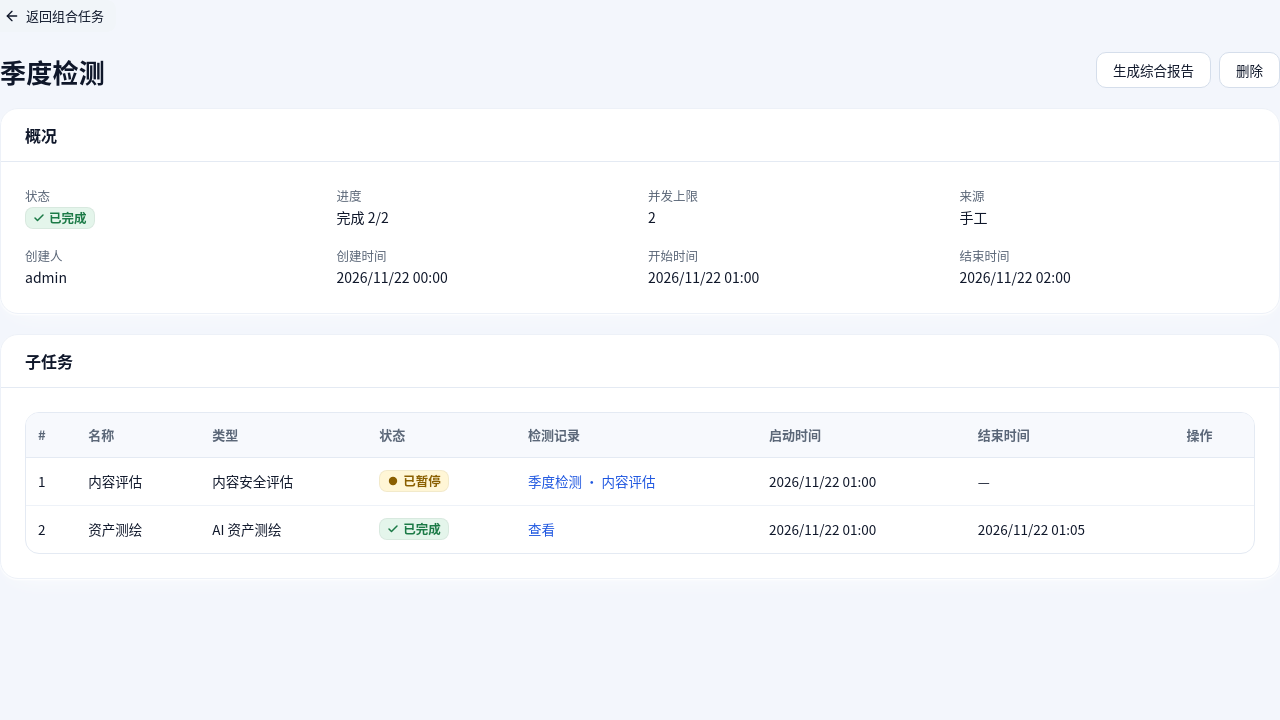
Test: DetectJobDetailPage › 任务结束后生成综合报告：带标题和所选模板，生成后进报告详情
Step 1. Click the button "生成综合报告" → click(1154, 70), box [1096,52,1211,88]
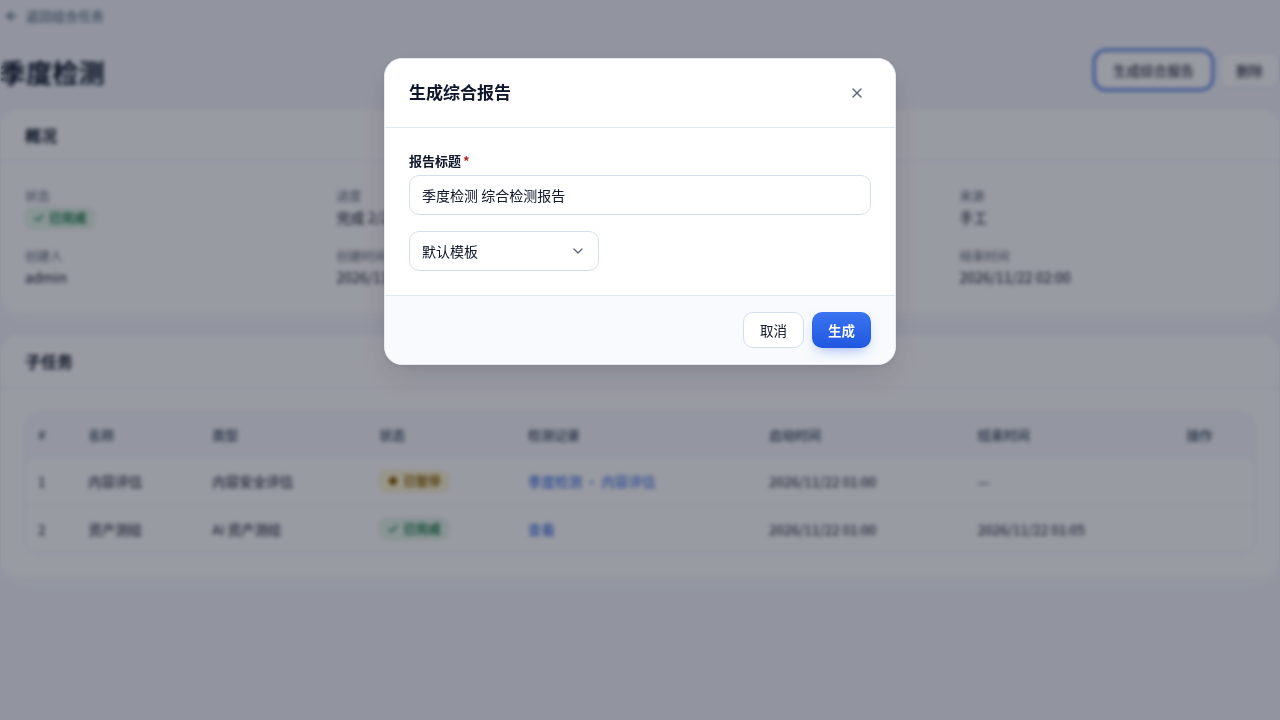
Now the field labelled "报告标题*" holds "季度检测 综合检测报告", box [409,176,871,216]
Step 2. Select "客户交付模板（默认）" in the dropdown named "报告模板" → (504, 252), box [409,232,599,272]
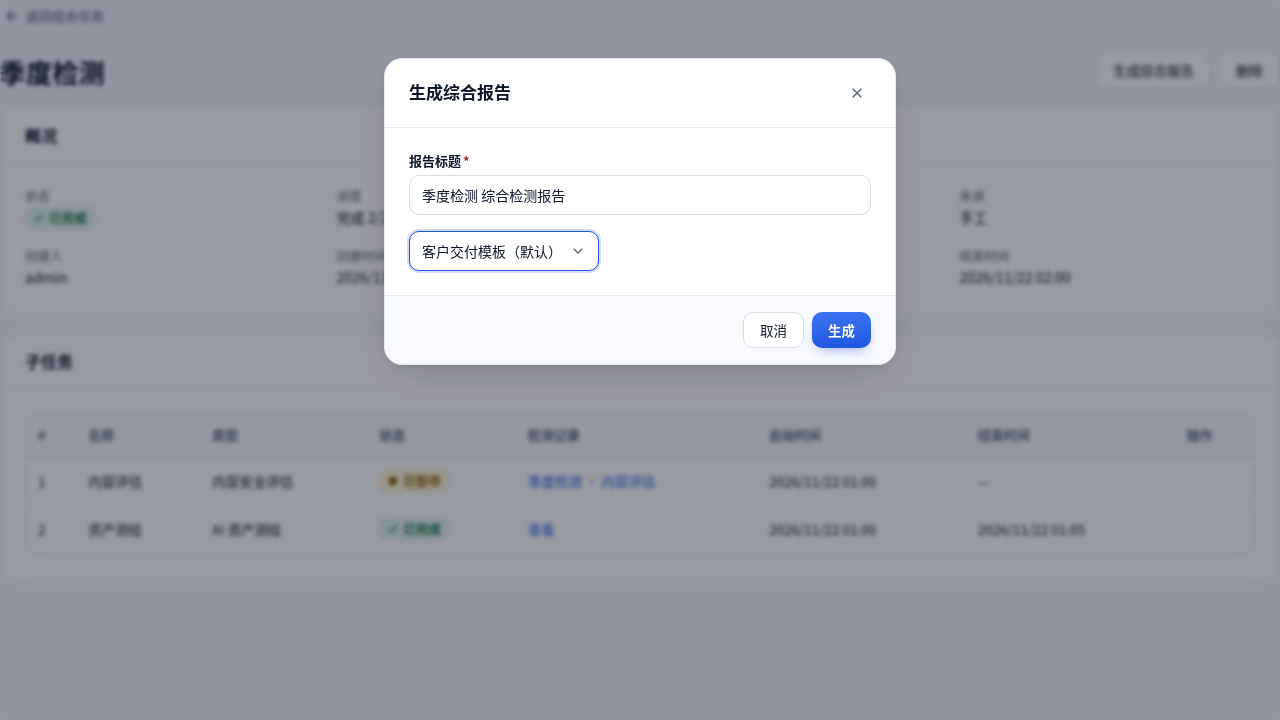
Step 3. Click the button "生成" → click(842, 330), box [812,312,871,348]
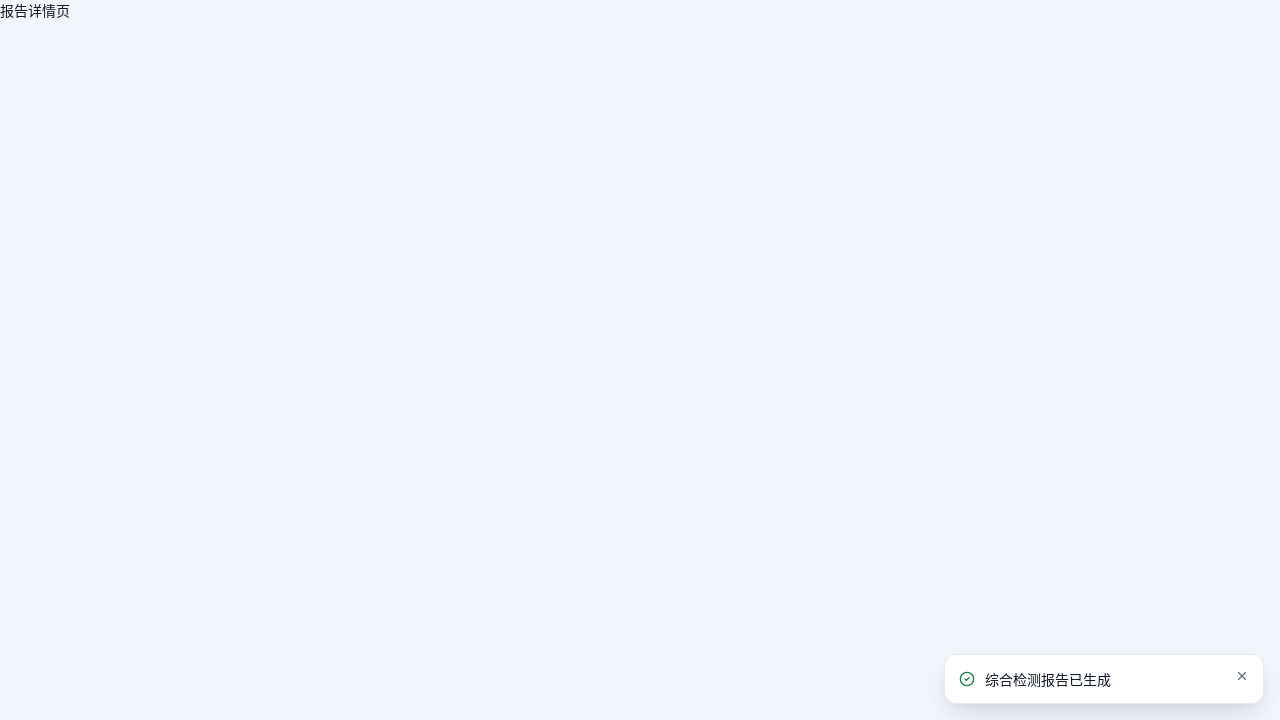
Now the text "报告详情页" is shown, box [0,0,70,20]
